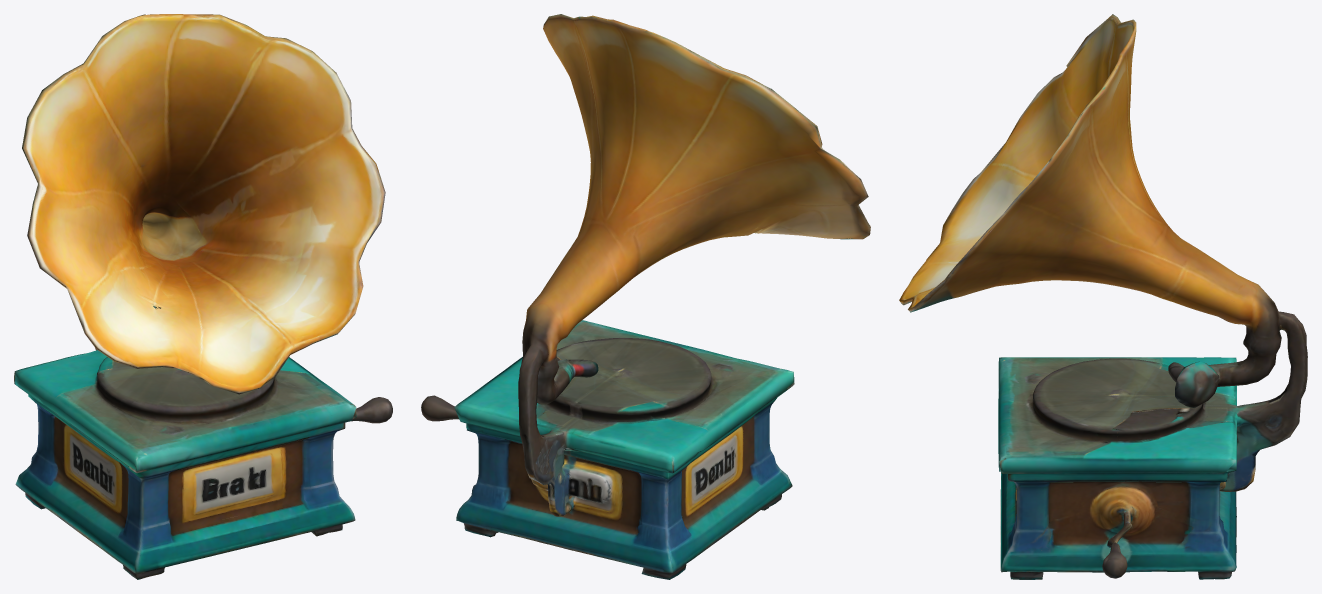
Rendered from Bob_s_Melody_Machine_0201193316_texture.fbx.
3 renders of one model, left to right at view 1: azimuth 30°, elevation 25°; view 2: azimuth 150°, elevation 25°; view 3: azimuth 270°, elevation 25°, orthographic. The views are drawn at different scales.
Parts seen in each view (by area): view 1: Mesh1_Mesh1.029; view 2: Mesh1_Mesh1.029; view 3: Mesh1_Mesh1.029.
Boxes of the visible parts, x1,y1,x2,y2 form: Mesh1_Mesh1.029: (14, 14, 392, 579); Mesh1_Mesh1.029: (421, 14, 870, 579); Mesh1_Mesh1.029: (899, 14, 1307, 579).
Size of the model in its own units: 168 by 200 by 152.
Materials: 1 (1 with a texture image).
